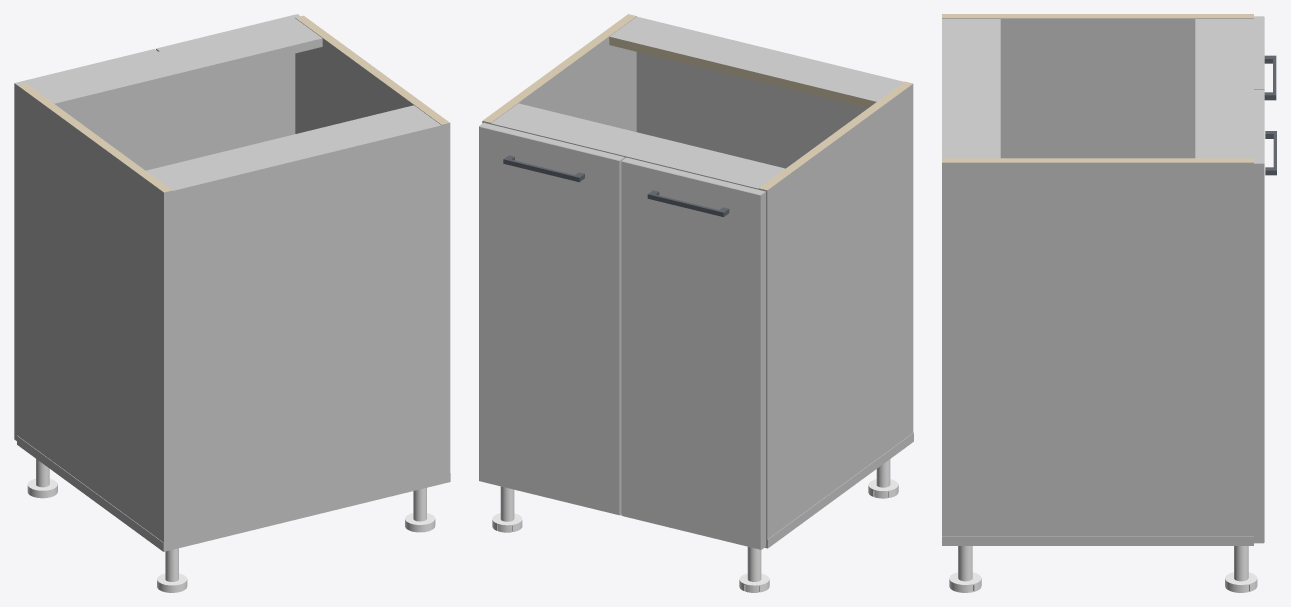
The picture shows the model from 3 angles, left to right: view 1: azimuth 30°, elevation 25°; view 2: azimuth 150°, elevation 25°; view 3: azimuth 270°, elevation 25°; orthographic projection. The views are drawn at different scales.
Visible parts, largest first — view 1: Group1, Group2; view 2: Group1, Group2; view 3: Group1, Group2.
Boxes of the visible parts, x1=… form: Group1: x1=14, y1=14, x2=450, y2=551; Group2: x1=27, y1=459, x2=435, y2=592; Group1: x1=479, y1=14, x2=913, y2=549; Group2: x1=492, y1=459, x2=898, y2=592; Group1: x1=942, y1=14, x2=1276, y2=545; Group2: x1=949, y1=546, x2=1257, y2=592.
Size of the model in its own units: 602 by 815 by 571.
